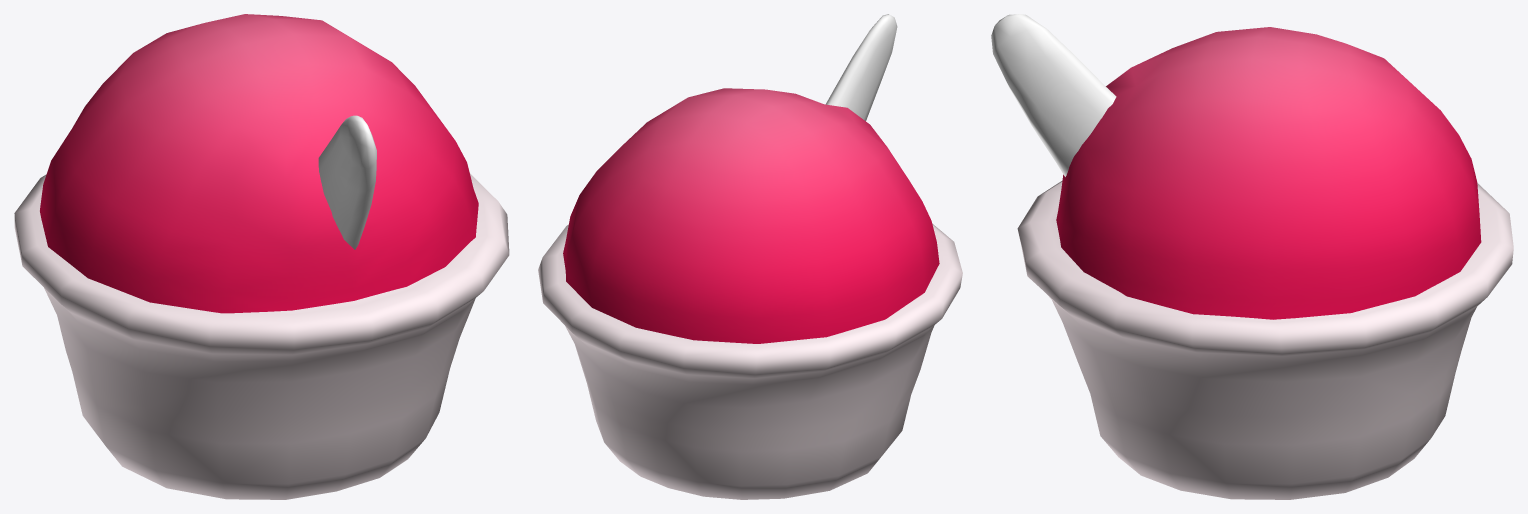
File: IceCream_0001_0013.fbx
The picture shows the model from 3 angles, left to right: view 1: azimuth 30°, elevation 25°; view 2: azimuth 150°, elevation 25°; view 3: azimuth 270°, elevation 25°; orthographic projection. The views are drawn at different scales.
Visible parts, largest first — view 1: Ice_0001_0013; view 2: Ice_0001_0013; view 3: Ice_0001_0013.
Part boxes in pixels (x1,y1,x2,y2): Ice_0001_0013: (14, 14, 509, 499); Ice_0001_0013: (538, 14, 962, 499); Ice_0001_0013: (991, 14, 1513, 499).
Bounding box in the file's own units: 0.0764 × 0.0711 × 0.0823.
Materials: 1 (1 with a texture image).
